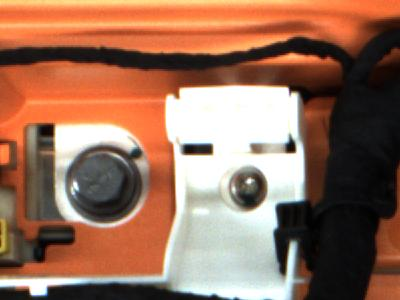nut_b: (60, 138, 142, 230)
